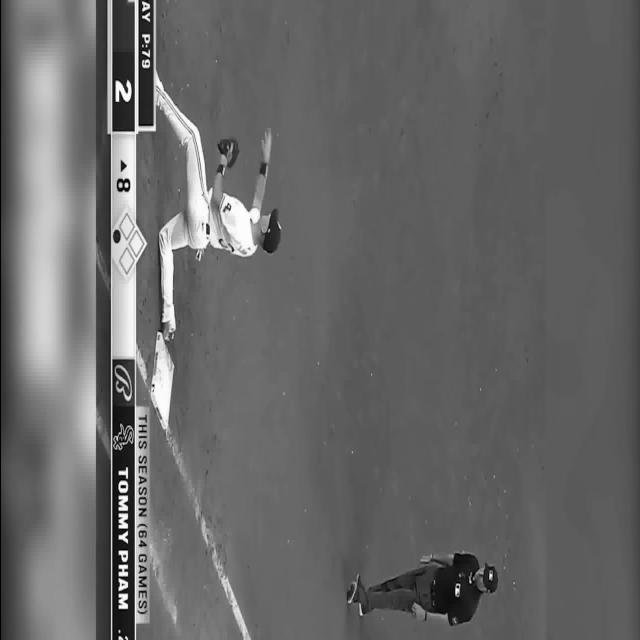base: (153, 350, 171, 425)
baseball_glove: (216, 137, 238, 167)
shoe: (160, 320, 174, 342), (346, 581, 356, 603), (195, 248, 203, 260), (358, 600, 364, 616)
